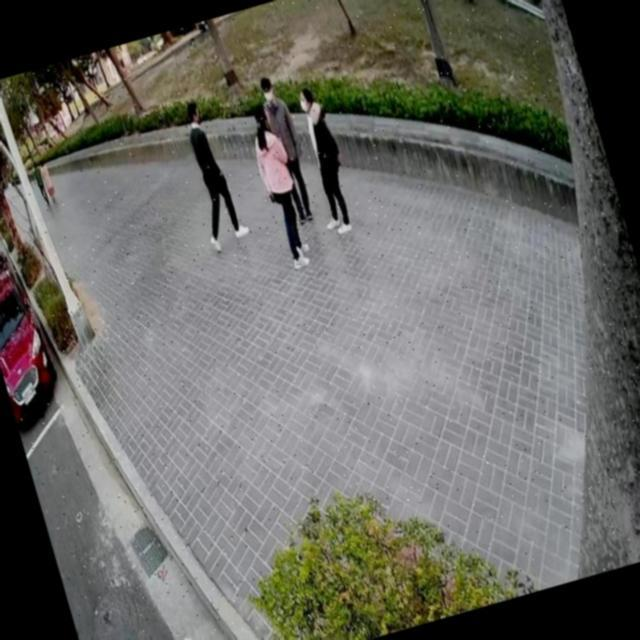person: (239, 92, 324, 273), (170, 90, 260, 260), (286, 78, 364, 238), (253, 68, 323, 228), (26, 153, 54, 209), (36, 153, 60, 203)
